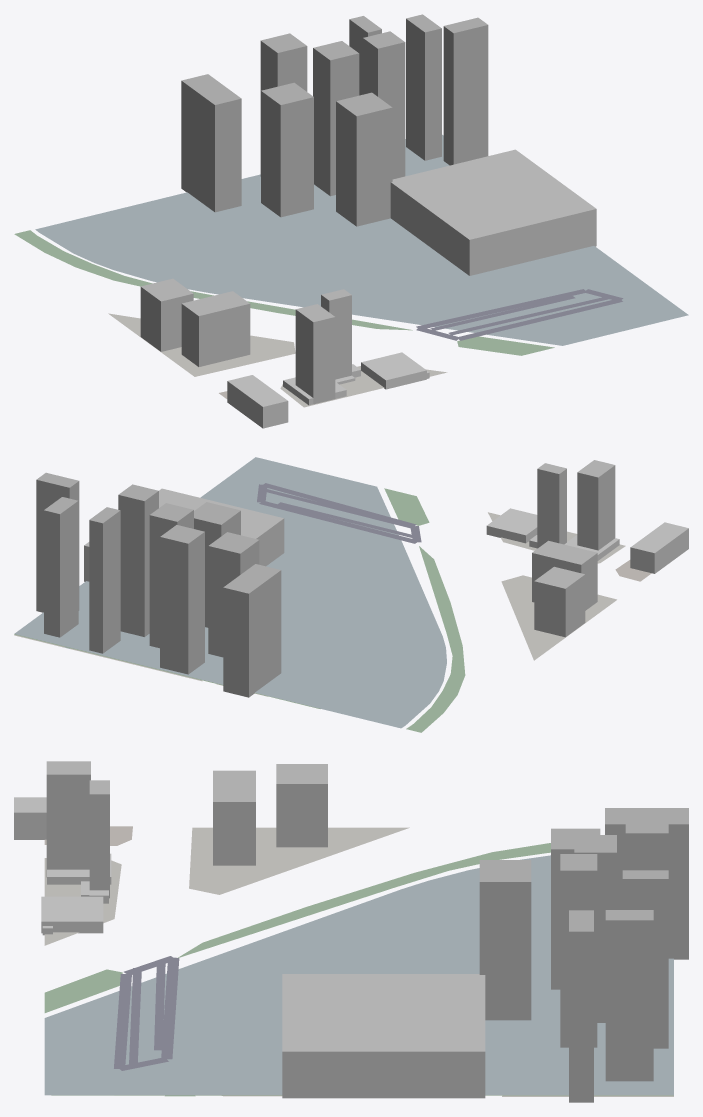
Rendered from 121_82_mid.glb.
The picture shows the model from 3 angles, top to bottom: view 1: azimuth 30°, elevation 25°; view 2: azimuth 150°, elevation 25°; view 3: azimuth 270°, elevation 25°; orthographic projection. The views are drawn at different scales.
Size of the model in its own units: 513 by 157 by 536.
